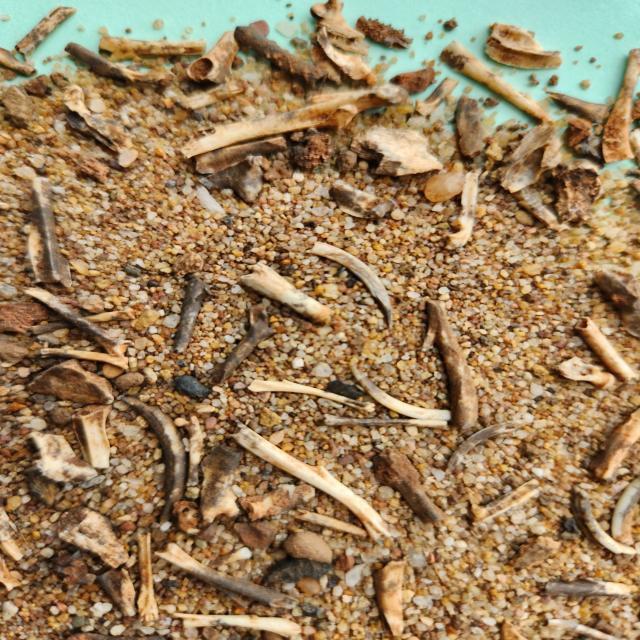fossil: (222, 415, 406, 540), (176, 84, 414, 160), (437, 38, 559, 131), (152, 538, 304, 611), (415, 298, 486, 438), (300, 238, 404, 329), (120, 392, 188, 530), (20, 281, 138, 360), (343, 354, 454, 424), (59, 83, 148, 168), (202, 297, 280, 389), (232, 260, 335, 329), (20, 168, 77, 290), (231, 22, 330, 90), (368, 443, 449, 526), (487, 116, 567, 198), (59, 40, 177, 89), (46, 502, 131, 570), (243, 374, 378, 416), (442, 418, 534, 478), (567, 482, 639, 558), (347, 123, 444, 178), (598, 43, 640, 167), (572, 313, 640, 387), (301, 26, 382, 86), (23, 355, 117, 406), (480, 18, 568, 72), (165, 267, 217, 357), (18, 426, 96, 486), (166, 608, 312, 640), (584, 404, 640, 486), (188, 134, 290, 177), (198, 441, 249, 526), (368, 553, 416, 640), (303, 0, 376, 57), (464, 477, 543, 528), (440, 170, 485, 259), (233, 478, 324, 522), (24, 306, 141, 339), (92, 32, 209, 64), (191, 156, 269, 204), (12, 4, 81, 56), (184, 28, 245, 86), (18, 344, 133, 374), (508, 182, 572, 235), (132, 530, 167, 625), (326, 177, 398, 222), (165, 76, 252, 112), (74, 401, 117, 473), (91, 560, 142, 618), (287, 506, 373, 540), (314, 412, 458, 432), (182, 410, 212, 503), (550, 352, 619, 392), (351, 13, 416, 54), (538, 574, 640, 600), (543, 88, 614, 125), (540, 614, 640, 640), (502, 531, 565, 572), (286, 123, 335, 175), (260, 557, 334, 591), (453, 92, 489, 161), (0, 496, 36, 565), (45, 545, 101, 588), (279, 528, 336, 568), (413, 77, 462, 121), (609, 472, 640, 541), (593, 262, 636, 310), (230, 516, 284, 552), (170, 494, 214, 538), (22, 470, 64, 510), (0, 83, 36, 129), (620, 272, 640, 341), (0, 48, 41, 80), (0, 553, 26, 592), (327, 148, 362, 175), (108, 371, 147, 393)
